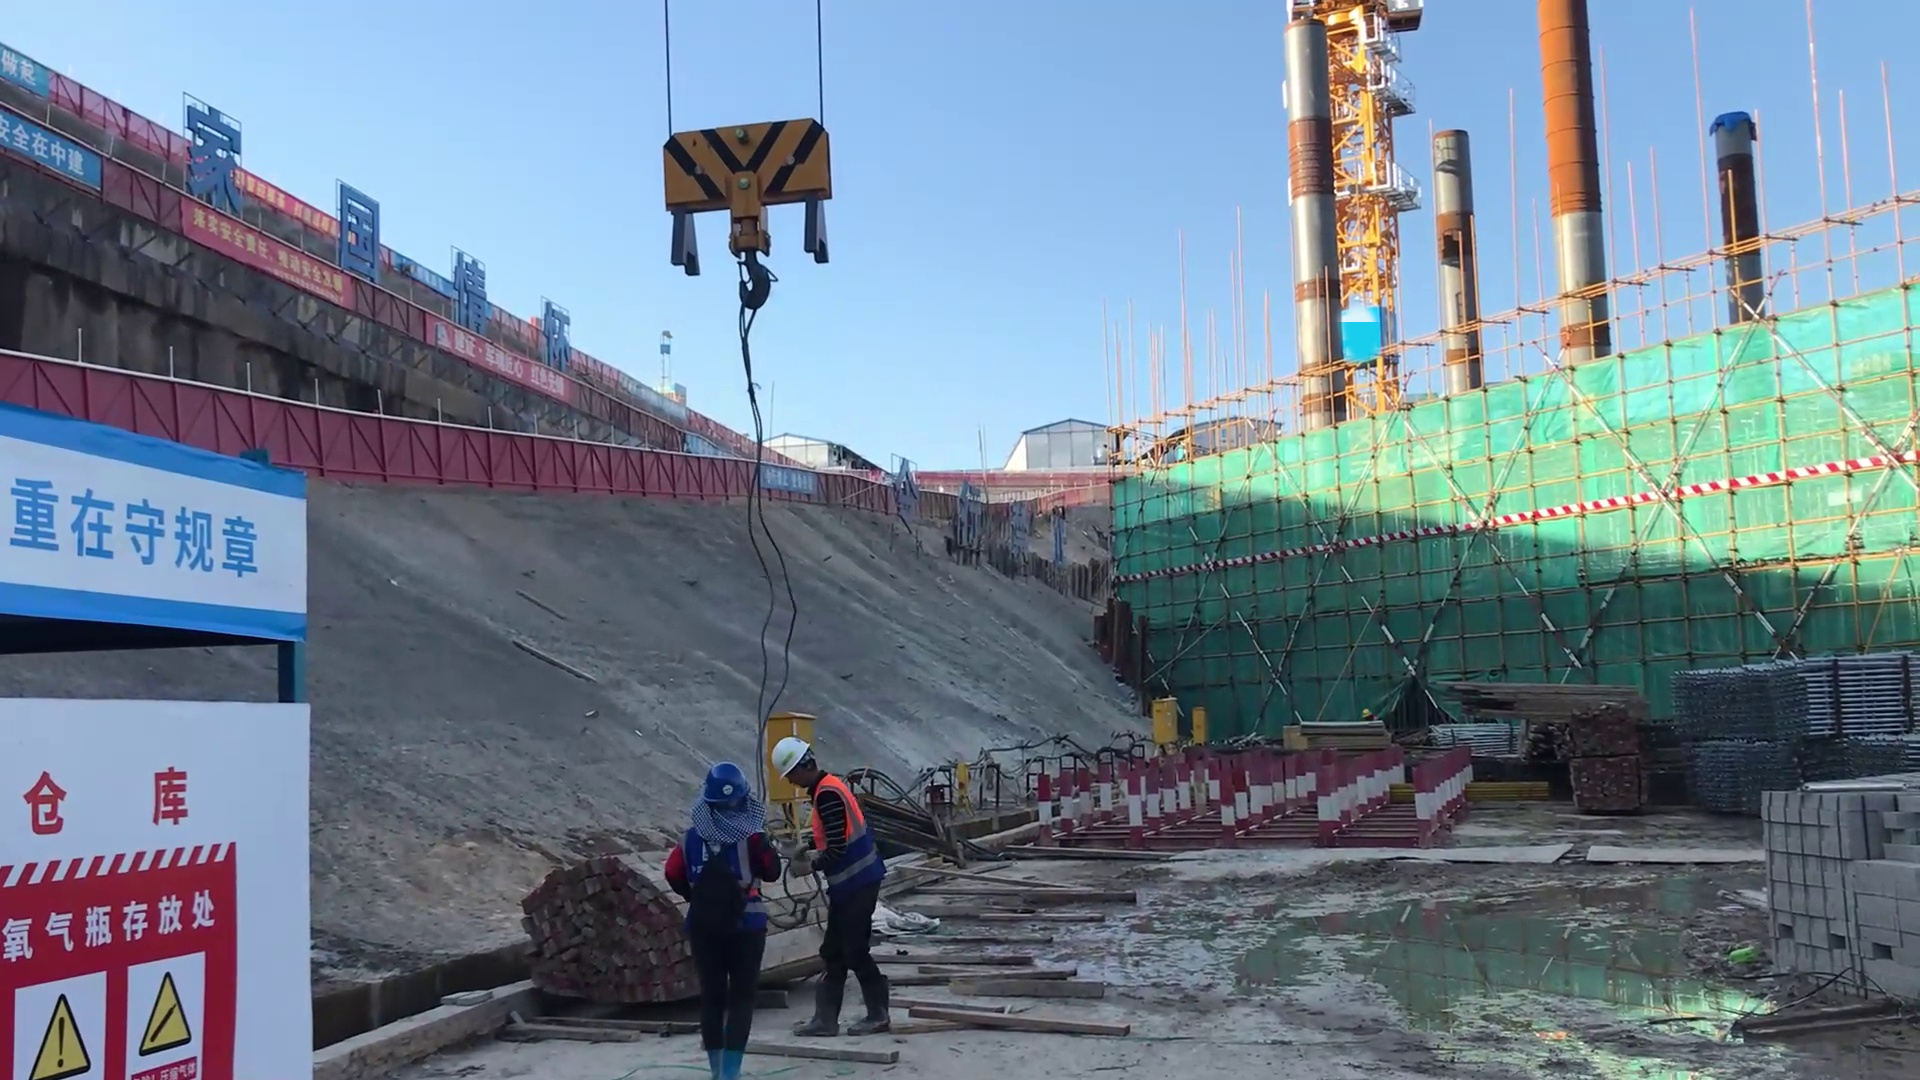brick: (1755, 771, 1920, 1005)
ebox: (1152, 695, 1188, 746), (1191, 700, 1208, 745)
fence: (284, 401, 562, 494), (562, 438, 748, 502)
helmet: (693, 770, 756, 844), (763, 733, 819, 811), (1359, 707, 1371, 717)
hook: (670, 123, 830, 276)
person: (767, 724, 900, 1050), (649, 756, 780, 1080)
scaffold: (1678, 657, 1901, 748)
slogan: (25, 765, 282, 1079), (11, 460, 264, 614), (184, 213, 354, 344), (7, 111, 111, 198)
vest: (808, 782, 859, 846)
wood: (501, 850, 680, 1015), (1455, 672, 1636, 741)
